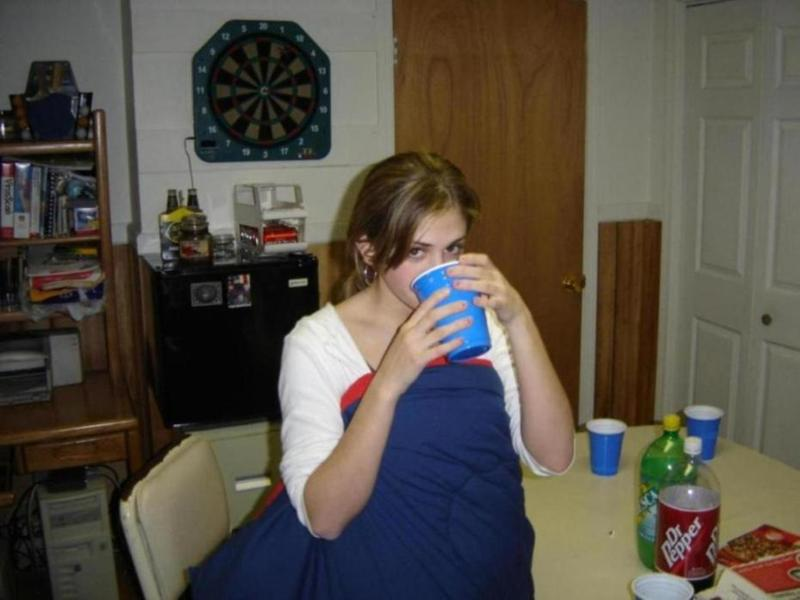person: (276, 150, 576, 599)
